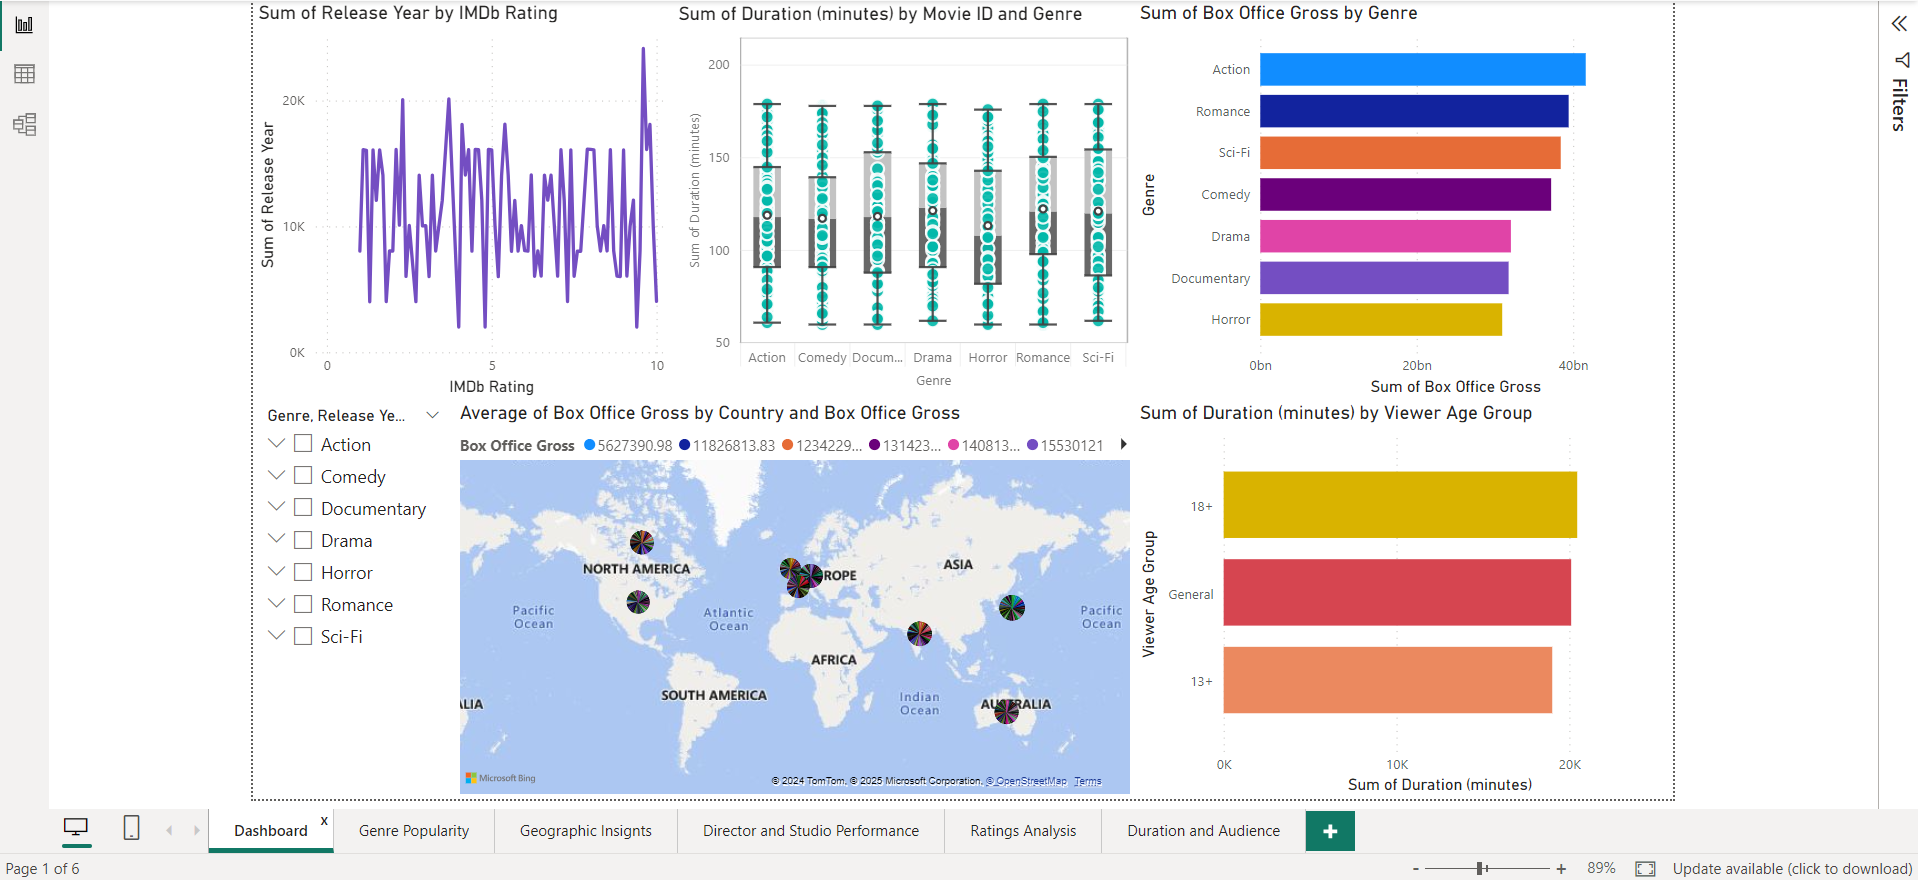

This screenshot's page, from the dashboard's own definition file:
{"tool":"powerbi","page":{"name":"Dashboard","canvas":[1280,720],"ordinal":0},"visuals":[{"type":"barChart","fields":{"Category":["global_movie_dataset.Genre"],"Y":["Sum(global_movie_dataset.Box Office Gross)"]},"box":[794.6,0,485.3,360.6],"z":0},{"type":"clusteredBarChart","fields":{"Category":["global_movie_dataset.Viewer Age Group"],"Y":["Sum(global_movie_dataset.Duration (minutes))"]},"box":[794.6,360.6,485.3,359.4],"z":1000},{"type":"slicer","fields":{"Values":["global_movie_dataset.Genre","global_movie_dataset.Release Year","global_movie_dataset.Country","global_movie_dataset.Viewer Age Group"]},"box":[0,360.6,180.9,359.4],"z":2000},{"type":"map","fields":{"Category":["global_movie_dataset.Country"],"Series":["global_movie_dataset.Box Office Gross"],"Size":["Avg(global_movie_dataset.Box Office Gross)"]},"box":[180.9,360.6,613.7,359.4],"z":3000},{"type":"lineChart","fields":{"Category":["global_movie_dataset.IMDb Rating"],"Y":["Sum(global_movie_dataset.Release Year)"]},"box":[0,0,378.9,360.6],"z":4000},{"type":"BoxandWhiskerByMAQ1823AD39DT234AB532063E128AX","fields":{"measure":["Sum(global_movie_dataset.Duration (minutes))"],"category":["global_movie_dataset.Movie ID"],"categoryGroup":["global_movie_dataset.Genre"]},"box":[378.9,1.2,415.6,359.4],"z":5000}]}

Visuals, with their boxes on the page's 1280x720 design canvas (x1, y1, x2, y2). These are canvas units, not pixel positions in the 1918x880 screenshot, which may show the page scaled, cropped or inside an application window:
barChart - global_movie_dataset.Genre x Sum(global_movie_dataset.Box Office Gross): 795,0,1280,361
clusteredBarChart - global_movie_dataset.Viewer Age Group x Sum(global_movie_dataset.Duration (minutes)): 795,361,1280,720
slicer - global_movie_dataset.Genre x global_movie_dataset.Release Year: 0,361,181,720
map - global_movie_dataset.Country x global_movie_dataset.Box Office Gross: 181,361,795,720
lineChart - global_movie_dataset.IMDb Rating x Sum(global_movie_dataset.Release Year): 0,0,379,361
BoxandWhiskerByMAQ1823AD39DT234AB532063E128AX - Sum(global_movie_dataset.Duration (minutes)) x global_movie_dataset.Movie ID: 379,1,794,361
